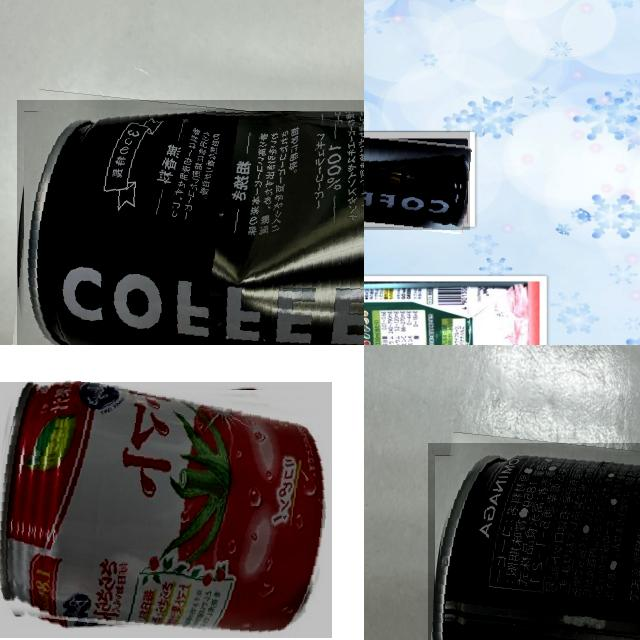Aluminium Foil: (364, 283, 540, 345)
Can: (16, 100, 364, 345), (0, 382, 331, 638), (427, 443, 640, 640), (364, 131, 469, 230)
